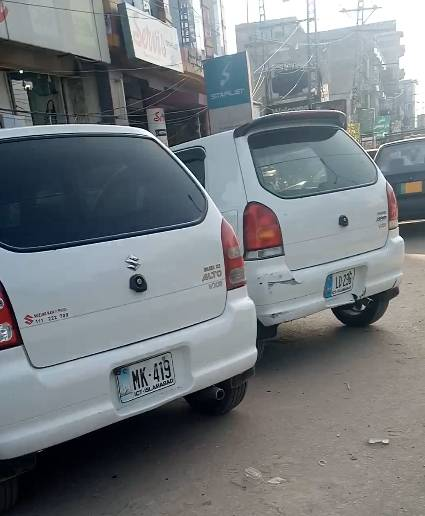number_plate: (113, 354, 187, 403), (317, 268, 367, 298), (396, 181, 425, 197)
